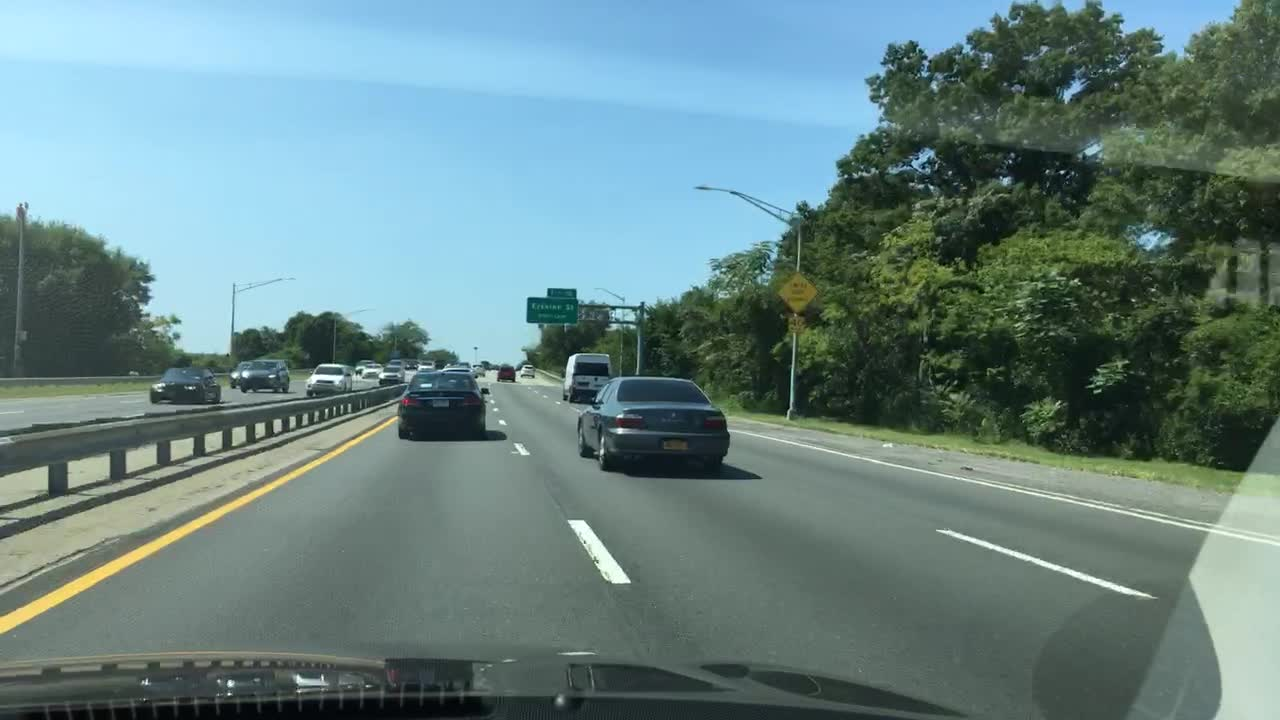car: (577, 375, 730, 472), (397, 369, 489, 440), (149, 366, 221, 405), (561, 351, 612, 405), (239, 358, 290, 392), (306, 362, 355, 397), (228, 359, 252, 389), (377, 364, 406, 386), (361, 362, 384, 380), (497, 364, 516, 383), (355, 358, 375, 375), (417, 358, 437, 372), (470, 362, 486, 378), (520, 363, 536, 379), (443, 367, 473, 373), (405, 358, 419, 370), (389, 358, 405, 367)
traffic sign: (777, 273, 820, 311), (525, 296, 579, 326), (545, 286, 577, 297), (787, 313, 805, 331)
